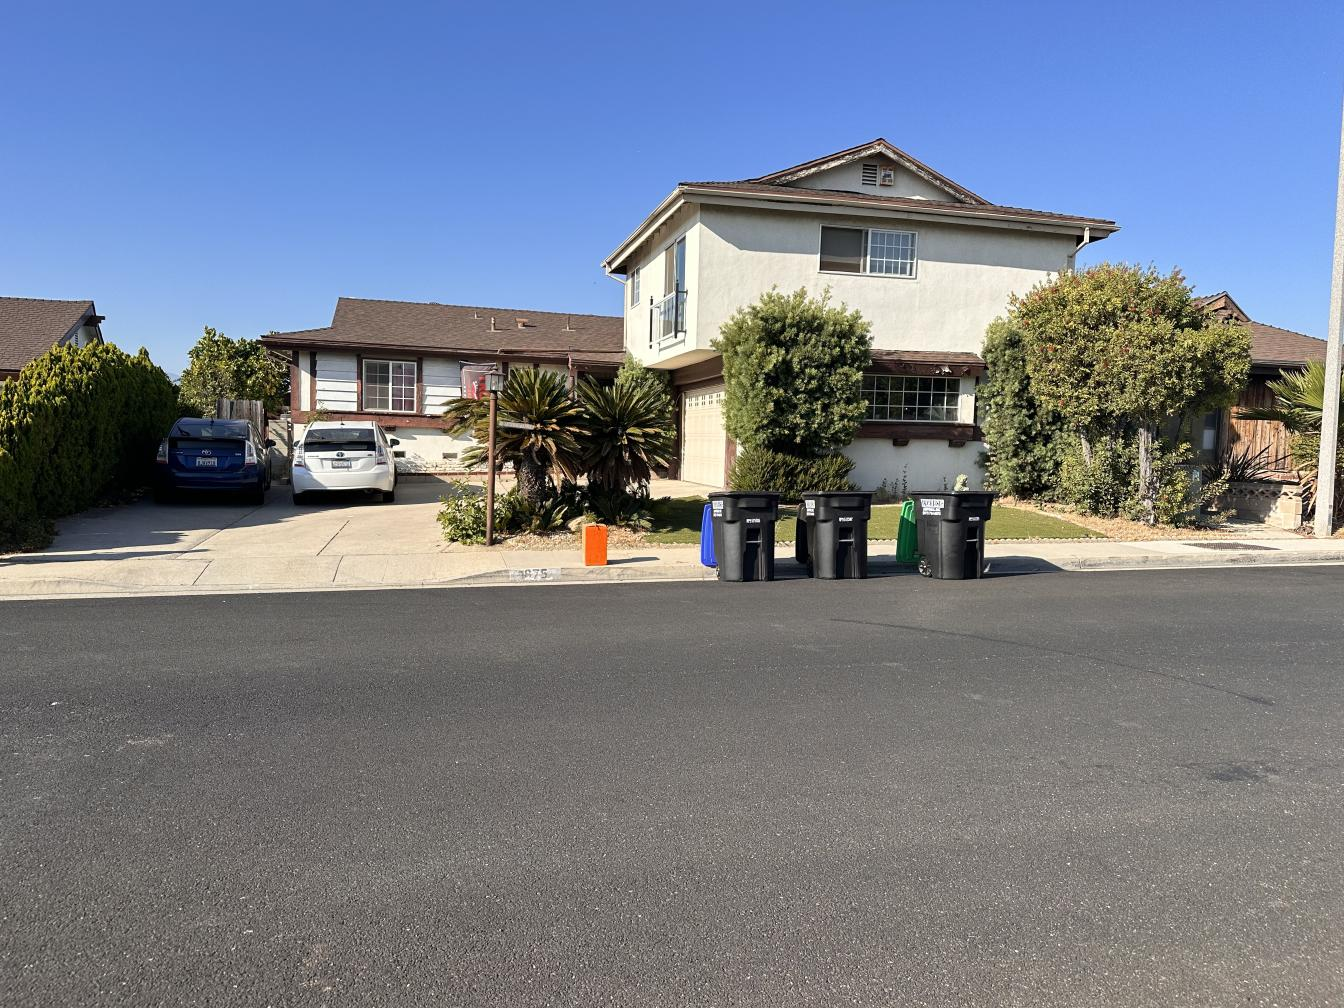curbs-laRr: (1000, 545, 1343, 575), (506, 565, 701, 581)
orange box: (585, 523, 609, 564)
